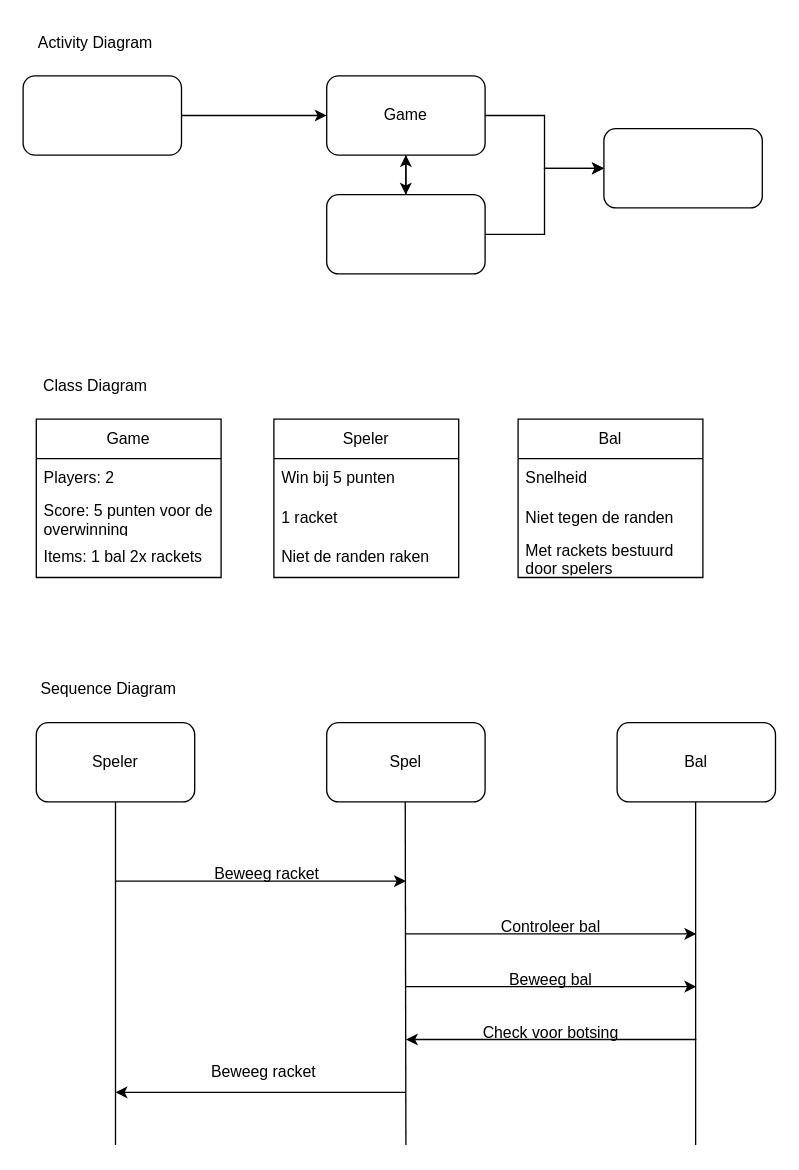
The diagram is 799 pixels wide and 1170 high, and some of its shapes have lost their labels. The shapes that lost their labels are listed below. From the top down, each one's box as (x1, y1, x2, y2) in pixels, then its label:
(22, 75, 182, 155): Home
(603, 127, 762, 208): Finish quit
(325, 193, 485, 274): Scoreboard
